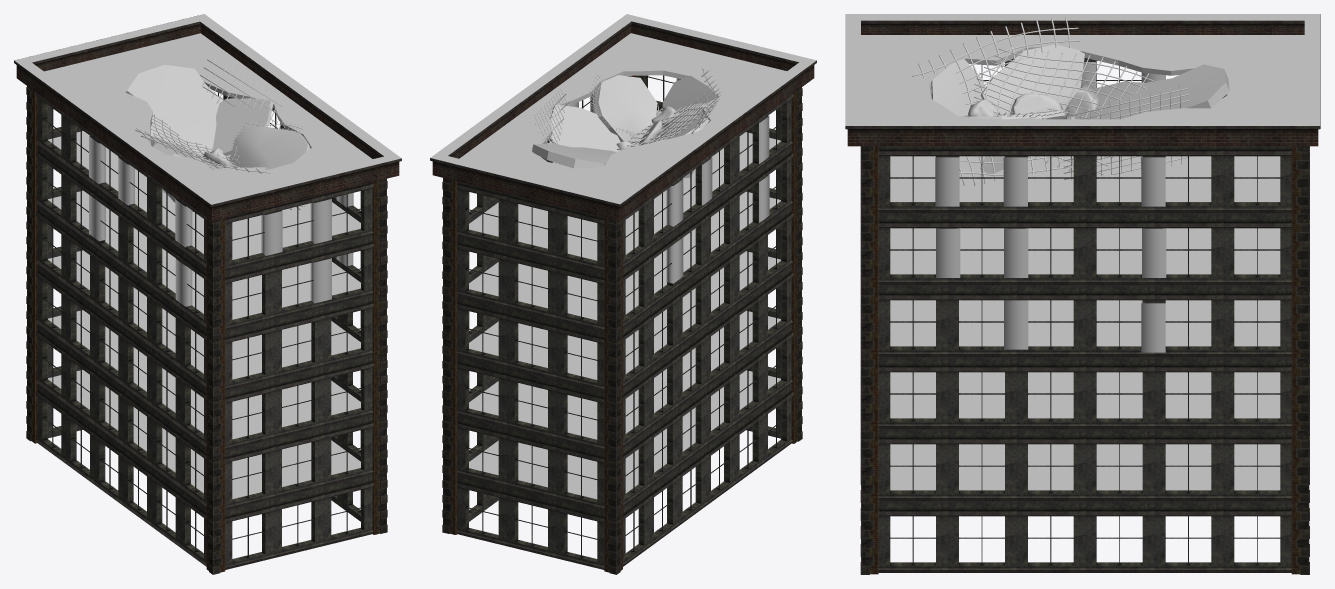
File: BuildingGreySm03.fbx
3 views of the same model, side by side, from view 1: azimuth 30°, elevation 25°; view 2: azimuth 150°, elevation 25°; view 3: azimuth 270°, elevation 25° (orthographic). The views are drawn at different scales.
Visible parts, largest first — view 1: Plane.117, Cube.693, Cube.692, Cube.711, Cube.712, Cube.713, Cube.695, Cube.697, Cube.706, Cube.707, Cube.708, Cube.709 (+2 smaller); view 2: Plane.117, Cube.693, Cube.692, Cube.697, Cube.709, Cube.710, Cube.695, Cube.696; view 3: Plane.117, Cube.693, Cube.692, Cube.697, Cube.696, Cube.695, Cube.704, Cube.699, Cube.701, Cube.703, Cube.698, Cube.700 (+2 smaller).
Part boxes in pixels (x1,y1,x2,y2): Plane.117: (26,86,387,574); Cube.693: (44,33,372,211); Cube.692: (14,14,401,221); Cube.711: (261,210,282,255); Cube.712: (310,199,331,243); Cube.713: (310,258,331,303); Cube.695: (200,56,282,160); Cube.697: (150,114,239,167); Cube.706: (175,258,192,306); Cube.707: (175,199,192,247); Cube.708: (118,157,134,205); Cube.709: (89,136,105,184); Plane.117: (442,75,802,574); Cube.693: (455,33,786,201); Cube.692: (430,14,816,220); Cube.697: (616,102,707,152); Cube.709: (666,179,683,226); Cube.710: (666,238,683,283); Cube.695: (534,89,568,164); Cube.696: (634,68,722,145); Plane.117: (860,58,1309,574); Cube.693: (861,35,1304,174); Cube.692: (845,14,1320,146); Cube.697: (973,44,1153,174); Cube.696: (912,17,1098,185); Cube.695: (1062,84,1191,180); Cube.704: (1141,300,1165,352); Cube.699: (1141,156,1165,206); Cube.701: (1003,156,1027,206); Cube.703: (935,156,959,206); Cube.698: (1142,228,1166,277); Cube.700: (1004,228,1028,277).
Size of what is drawn, in the model's own units: 1360 by 2651 by 2440.
